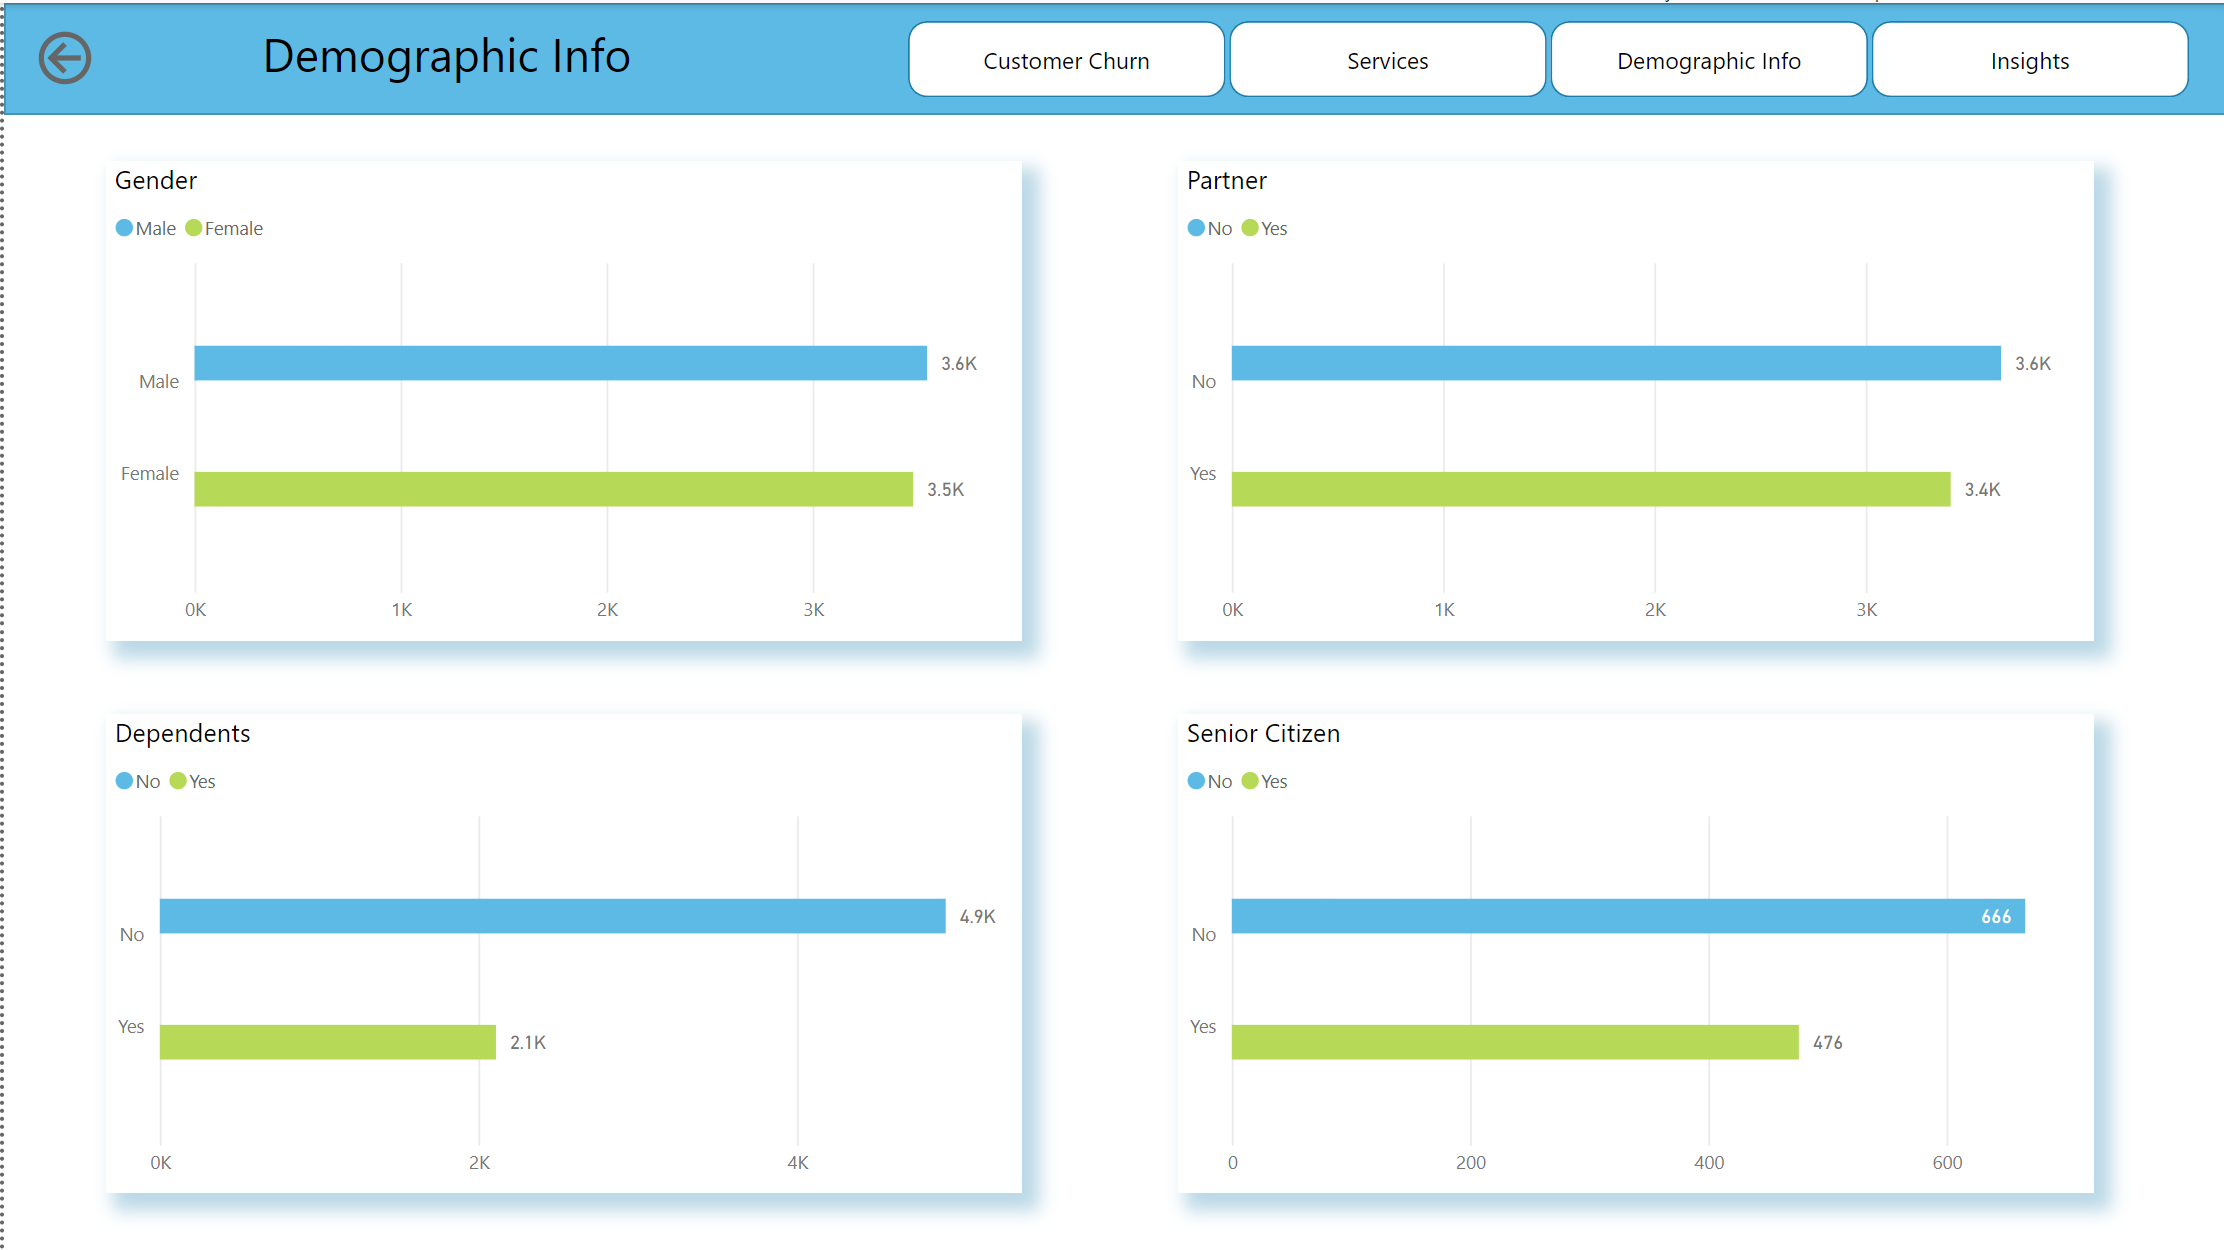

The dashboard page shown, as its layout file describes it:
{"tool":"powerbi","page":{"name":"Demographic Info","canvas":[1280,720],"ordinal":3},"visuals":[{"type":"shape","box":[0,0,1279.7,64.5],"z":0},{"type":"actionButton","box":[15.2,11.6,43.9,40.3],"z":1000},{"type":"textbox","box":[76.1,5.4,358.2,53.7],"z":2000},{"type":"pageNavigator","box":[521.2,9.9,738.8,44.8],"z":3000},{"type":"clusteredBarChart","title":"Gender","fields":{"Category":["01 Churn-Dataset.gender"],"Y":["CountNonNull(01 Churn-Dataset.Churn)"],"Series":["01 Churn-Dataset.gender"]},"box":[59.1,91.3,527.5,275.8],"z":3001},{"type":"clusteredBarChart","title":"Partner","fields":{"Y":["CountNonNull(01 Churn-Dataset.Churn)"],"Category":["01 Churn-Dataset.Partner"],"Series":["01 Churn-Dataset.Partner"]},"box":[676.1,91.3,527.5,275.8],"z":3002},{"type":"clusteredBarChart","title":"Dependents","fields":{"Category":["01 Churn-Dataset.Dependents"],"Series":["01 Churn-Dataset.Dependents"],"Y":["CountNonNull(01 Churn-Dataset.Churn)"]},"box":[59.1,409.3,527.5,275.8],"z":3003},{"type":"clusteredBarChart","title":"Senior Citizen","fields":{"Category":["01 Churn-Dataset.Churn"],"Series":["01 Churn-Dataset.Churn"],"Y":["Sum(01 Churn-Dataset.SeniorCitizen)"]},"box":[676.1,409.3,527.5,275.8],"z":3004}]}

Visuals, with their boxes in screenshot pixels (x1, y1, x2, y2), scaled from the page's 1280x720 canvas onto the 2224x1250 screenshot:
shape: [x1=0, y1=0, x2=2223, y2=112]
actionButton: [x1=26, y1=20, x2=103, y2=90]
textbox: [x1=132, y1=9, x2=755, y2=103]
pageNavigator: [x1=906, y1=17, x2=2189, y2=95]
"Gender" clusteredBarChart: [x1=103, y1=159, x2=1019, y2=637]
"Partner" clusteredBarChart: [x1=1175, y1=159, x2=2091, y2=637]
"Dependents" clusteredBarChart: [x1=103, y1=711, x2=1019, y2=1189]
"Senior Citizen" clusteredBarChart: [x1=1175, y1=711, x2=2091, y2=1189]
